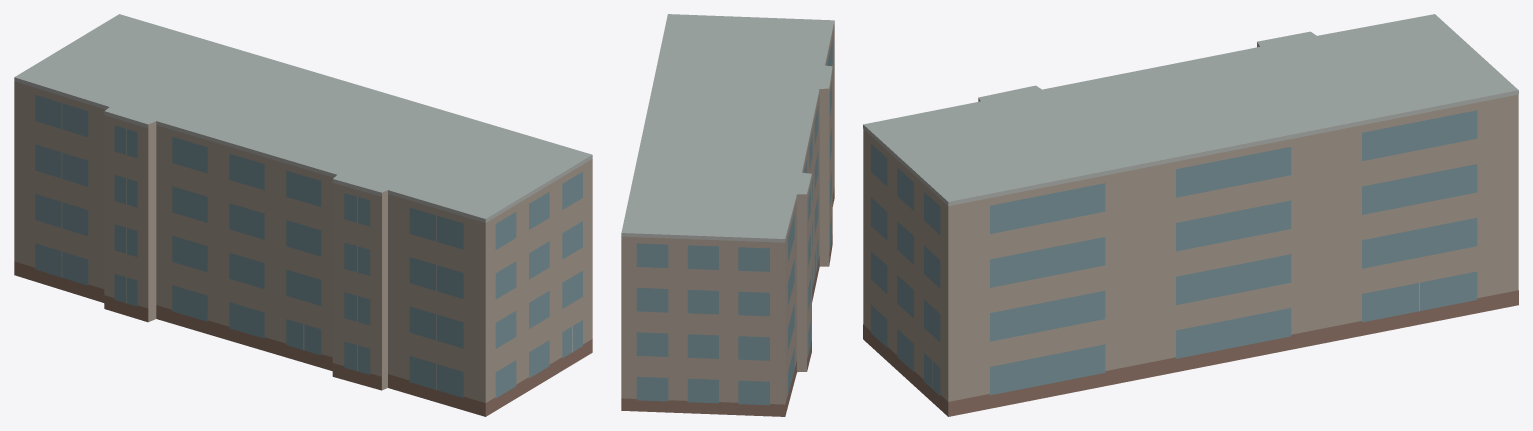
The model's file is survey-upis-32905075.glb.
The picture shows the model from 3 angles, left to right: view 1: azimuth 30°, elevation 25°; view 2: azimuth 150°, elevation 25°; view 3: azimuth 270°, elevation 25°; orthographic projection. The views are drawn at different scales.
Parts seen in each view (by area): view 1: survey-upis-32905075.tmp; view 2: survey-upis-32905075.tmp; view 3: survey-upis-32905075.tmp.
Boxes of the visible parts, left/top/right/bottom form: survey-upis-32905075.tmp: left=14, top=14, right=592, bottom=416; survey-upis-32905075.tmp: left=621, top=14, right=834, bottom=416; survey-upis-32905075.tmp: left=863, top=14, right=1518, bottom=416.
Size of the model in its own units: 22.89 by 12.2 by 33.73.
